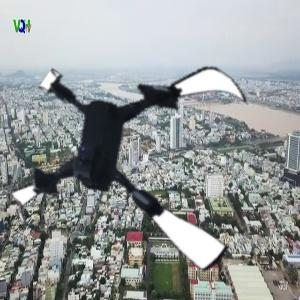drone: (16, 37, 267, 288)
